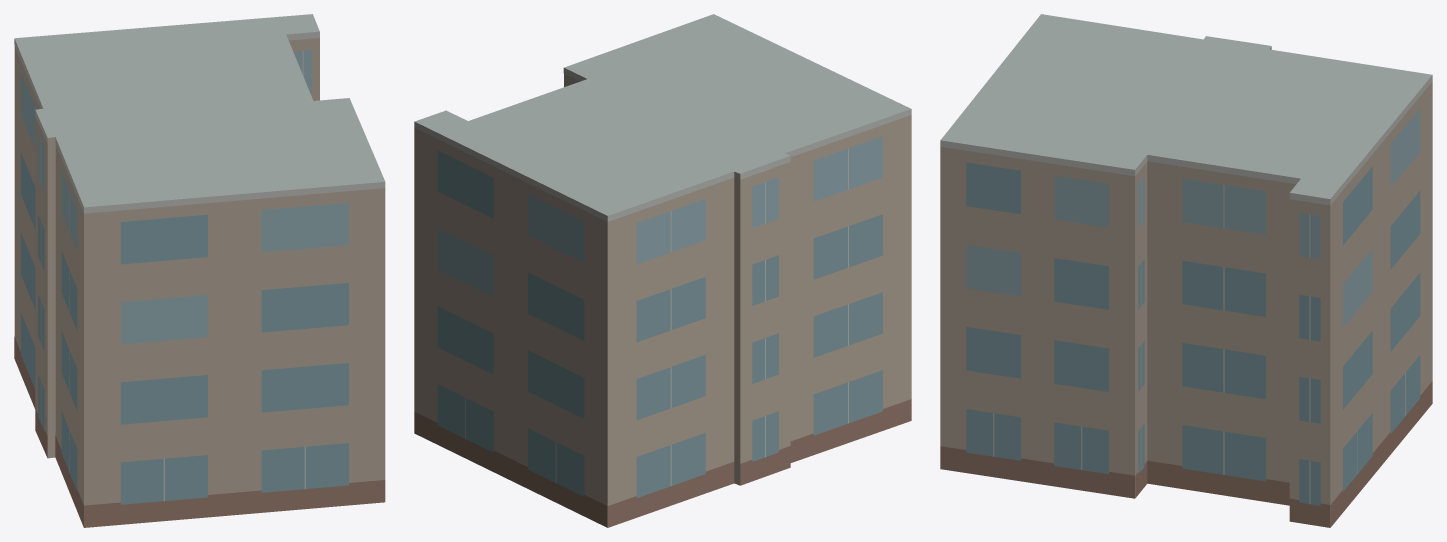
File: survey-upis-32524507.glb
The picture shows the model from 3 angles, left to right: view 1: azimuth 30°, elevation 25°; view 2: azimuth 150°, elevation 25°; view 3: azimuth 270°, elevation 25°; orthographic projection. The views are drawn at different scales.
Visible parts, largest first — view 1: survey-upis-32524507.tmp; view 2: survey-upis-32524507.tmp; view 3: survey-upis-32524507.tmp.
Boxes of the visible parts, x1=… form: survey-upis-32524507.tmp: x1=14, y1=14, x2=385, y2=527; survey-upis-32524507.tmp: x1=414, y1=14, x2=911, y2=527; survey-upis-32524507.tmp: x1=940, y1=14, x2=1432, y2=527.
Size of the model in its own units: 15.23 by 12.6 by 17.11.
